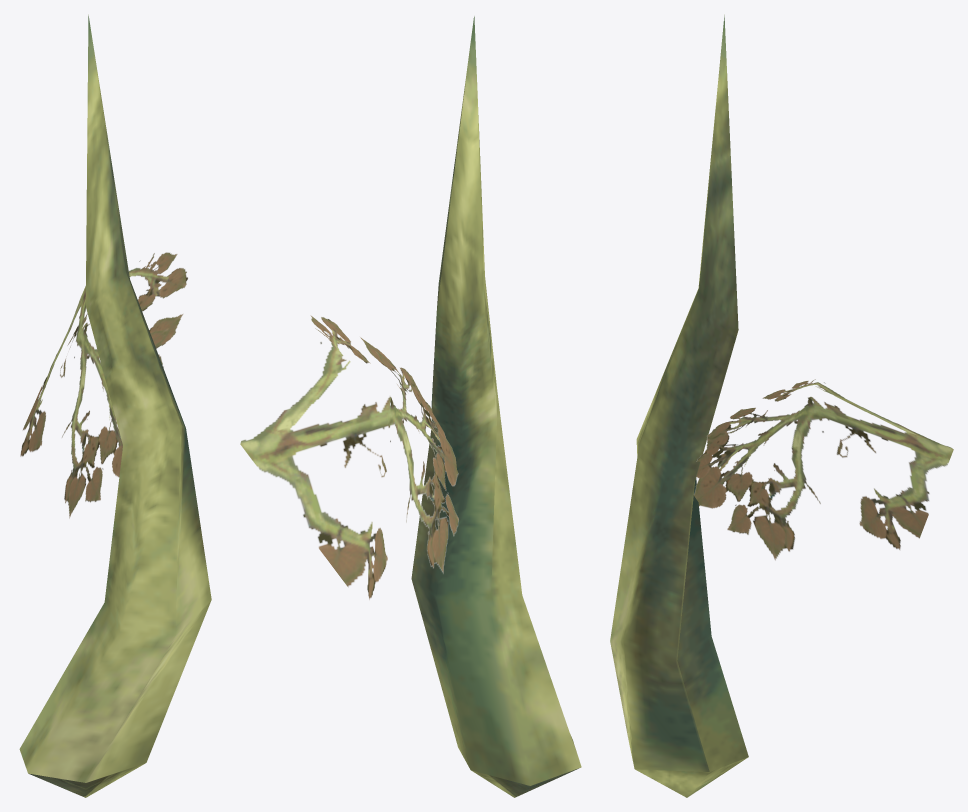
3 renders of one model, left to right at view 1: azimuth 30°, elevation 25°; view 2: azimuth 150°, elevation 25°; view 3: azimuth 270°, elevation 25°, orthographic. The views are drawn at different scales.
Parts seen in each view (by area): view 1: Solid, Alpha; view 2: Solid, Alpha; view 3: Solid, Alpha.
Part boxes in pixels (bbox=[...]): Solid: bbox=[19, 14, 211, 797]; Alpha: bbox=[20, 252, 188, 518]; Solid: bbox=[411, 16, 581, 797]; Alpha: bbox=[240, 315, 458, 600]; Solid: bbox=[610, 14, 748, 797]; Alpha: bbox=[694, 379, 953, 560].
Size of the model in its own units: 55.79 by 185 by 72.63.
Materials: 2 (2 with a texture image).
